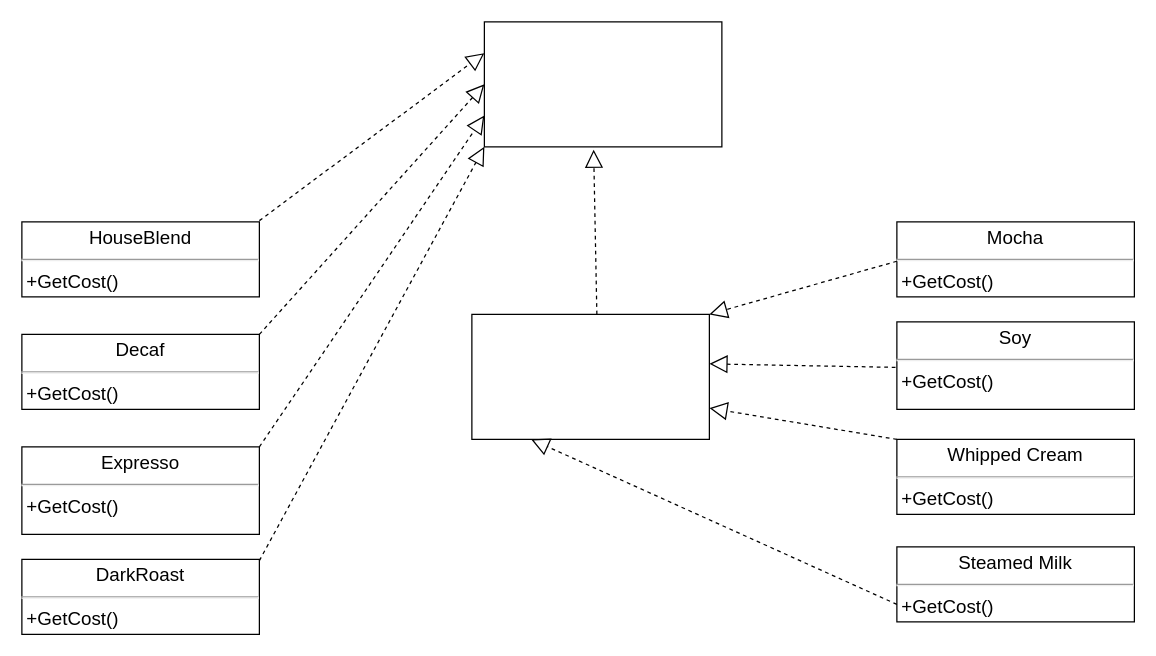
The diagram is 1156 pixels wide and 656 high, and some of its shapes have lost their labels. The shapes that lost their labels are listed below. From the top down, each one's centre as x and y in pixels, then its label:
At point 602,84: "<<Interface>> IBeverage +GetDescription: Str +GetCost: Decimal".
At point 590,376: "<<Interface>> CondimentDecorator +GetDescription: Str +GetCost: Decimal".
